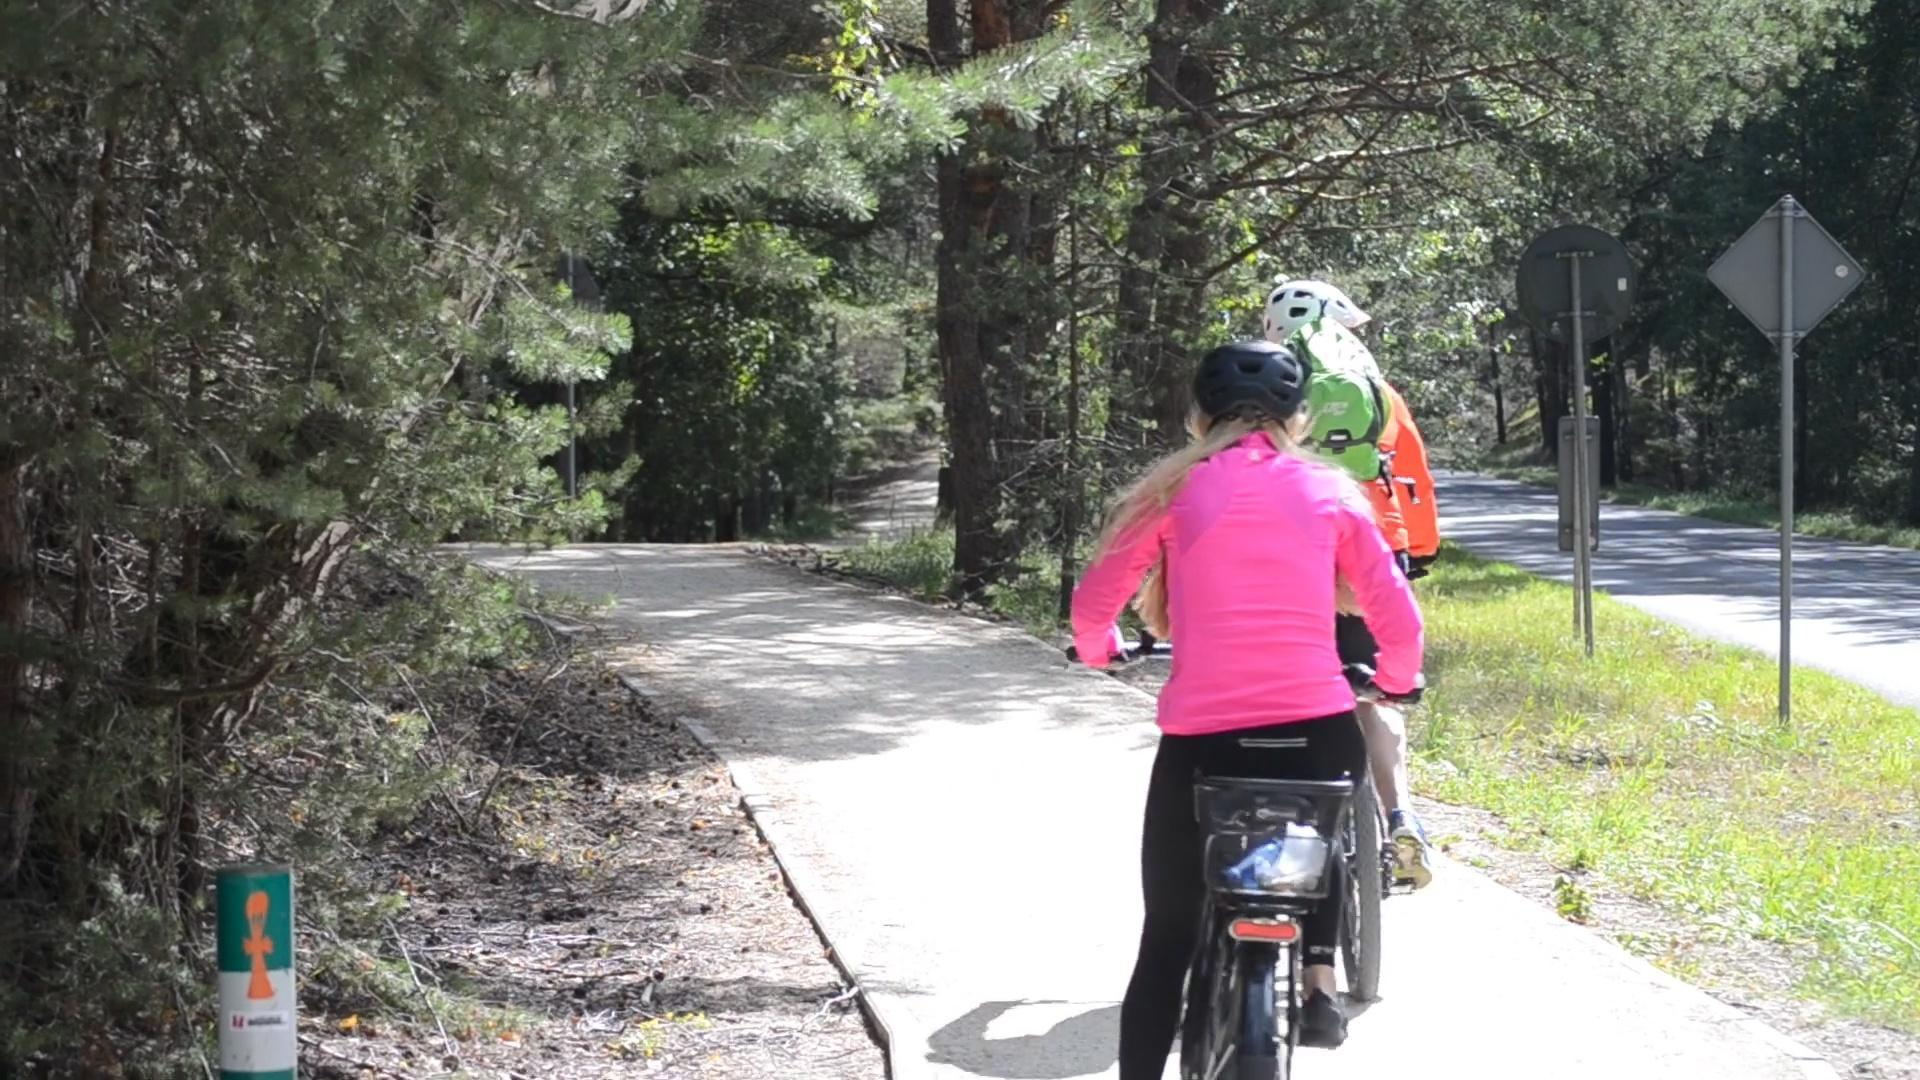cyclist: (1077, 322, 1408, 1079)
